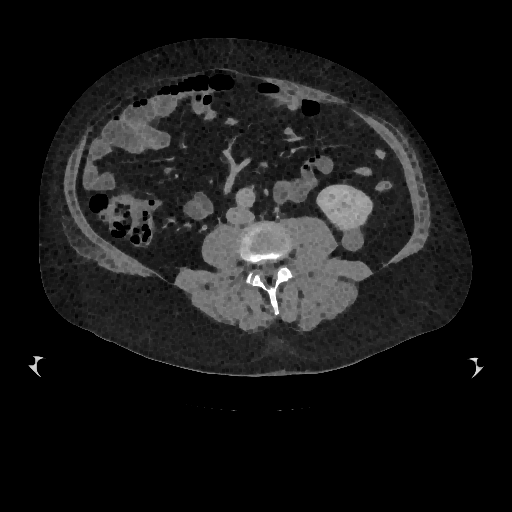Lesion: (339, 225, 367, 254)
